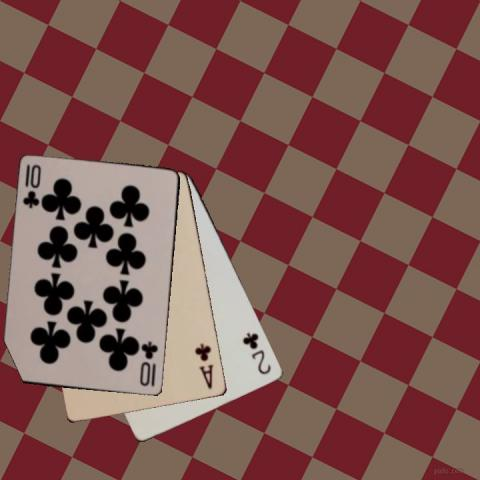10c: (20, 161, 43, 210), (137, 338, 159, 388)
2c: (240, 329, 273, 376)
Ac: (193, 341, 215, 390)
